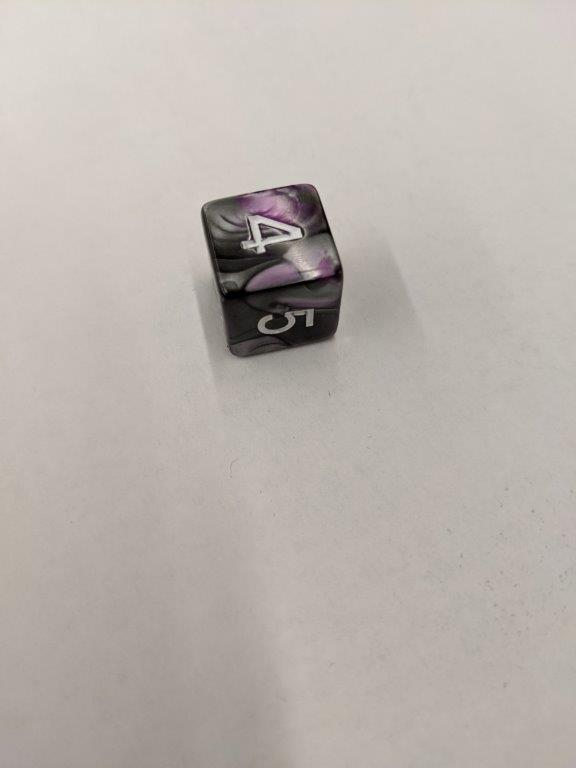d6-4: (205, 180, 343, 359)
